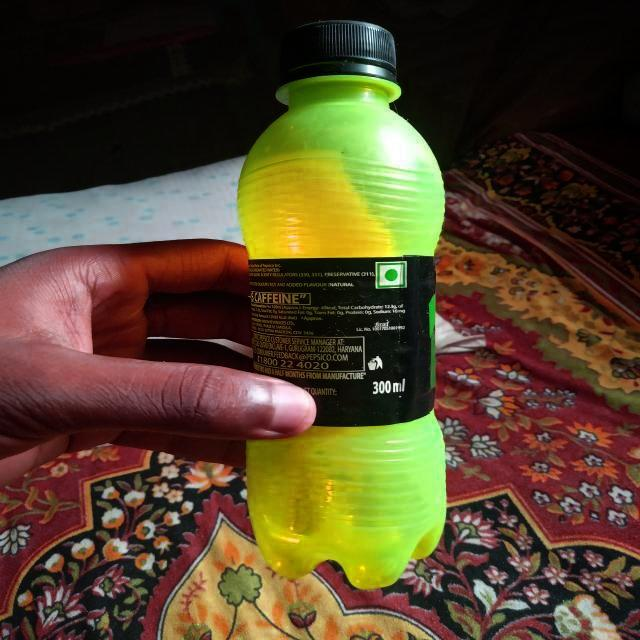bottle: (238, 21, 446, 590)
